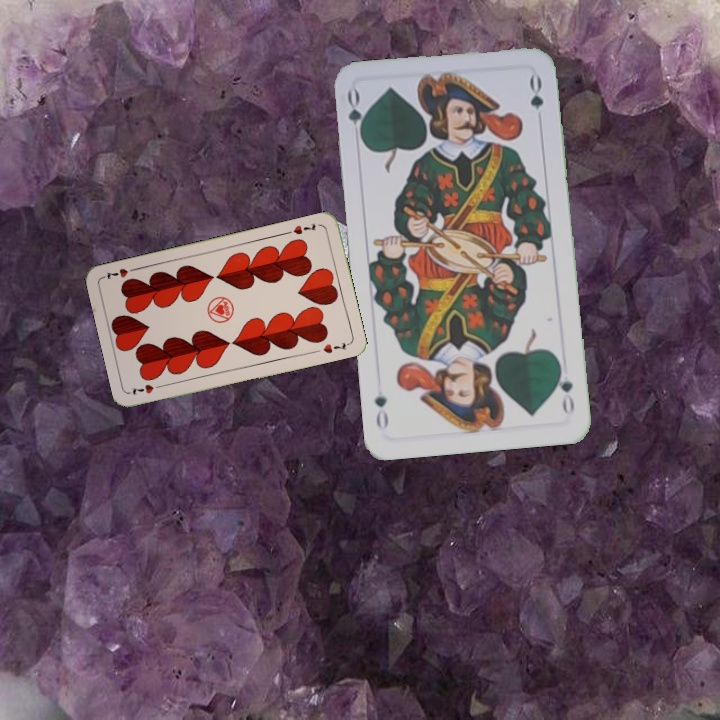GO: (343, 86, 369, 145), (552, 359, 577, 417)
H7: (128, 380, 167, 398), (289, 219, 319, 237)
